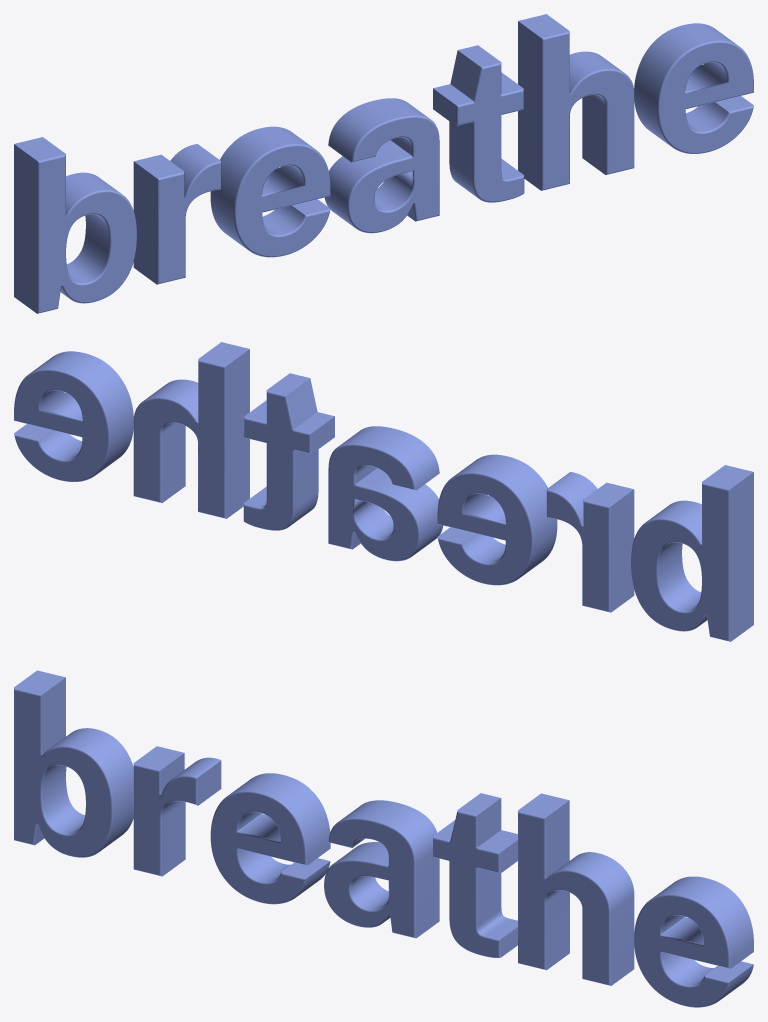
The model's file is Breathe.gltf.
3 renders of one model, top to bottom at view 1: azimuth 30°, elevation 25°; view 2: azimuth 150°, elevation 25°; view 3: azimuth 330°, elevation 25°, orthographic.
Parts seen in each view (by area): view 1: breathe; view 2: breathe; view 3: breathe.
Part boxes in pixels (x1,y1,x2,y2): breathe: (14, 14, 753, 313); breathe: (14, 342, 753, 641); breathe: (14, 670, 753, 1007).
Size of the model in its own units: 7.29 by 1.51 by 0.4485.
